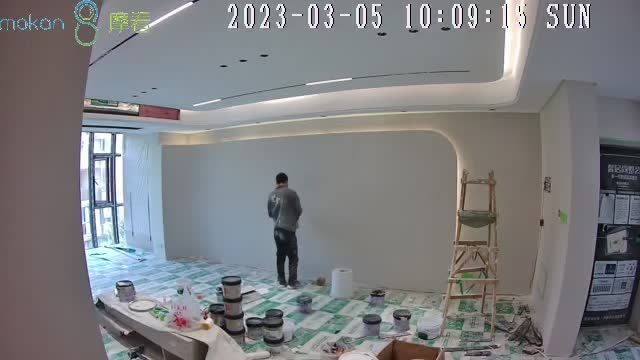people: (267, 172, 302, 288)
window: (84, 130, 128, 246)
